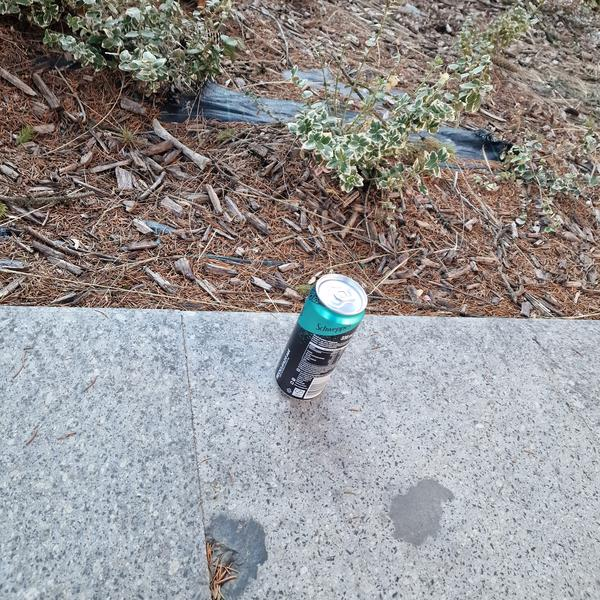can: (267, 265, 376, 413)
